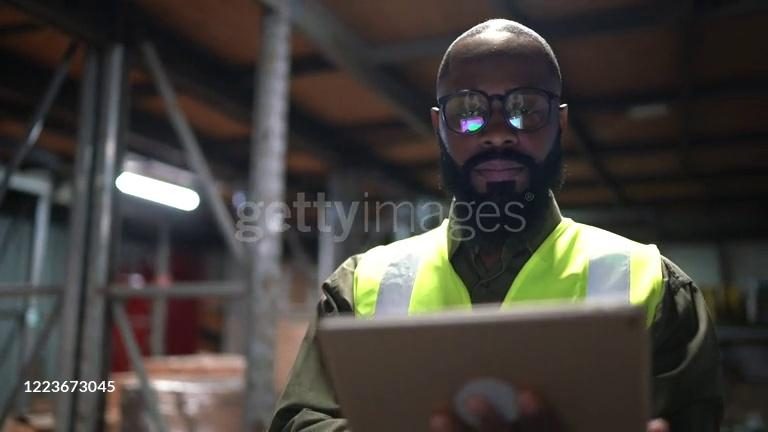person: (267, 19, 723, 427)
